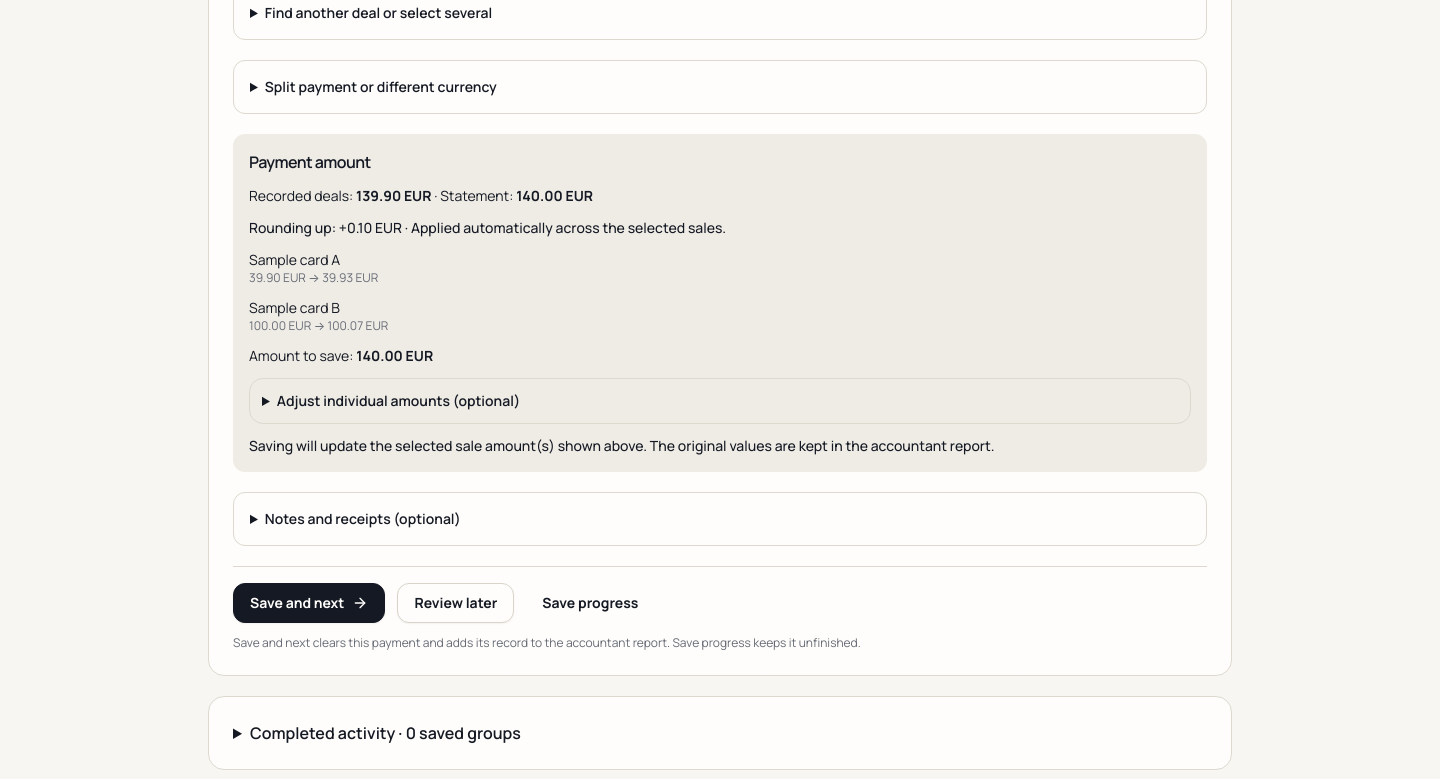
it: guided payment review › clears a combined sale with implied rounding, including an old unfinished draft
This screenshot has width=1440, height=779.
(page scrolled)
Check: the element named "Payment amount" shows "Rounding up: +0.10 EUR", box [233,134,1207,472]
Click the button "Save and next": click(309, 603) [233,583,385,623]
(page scrolled)
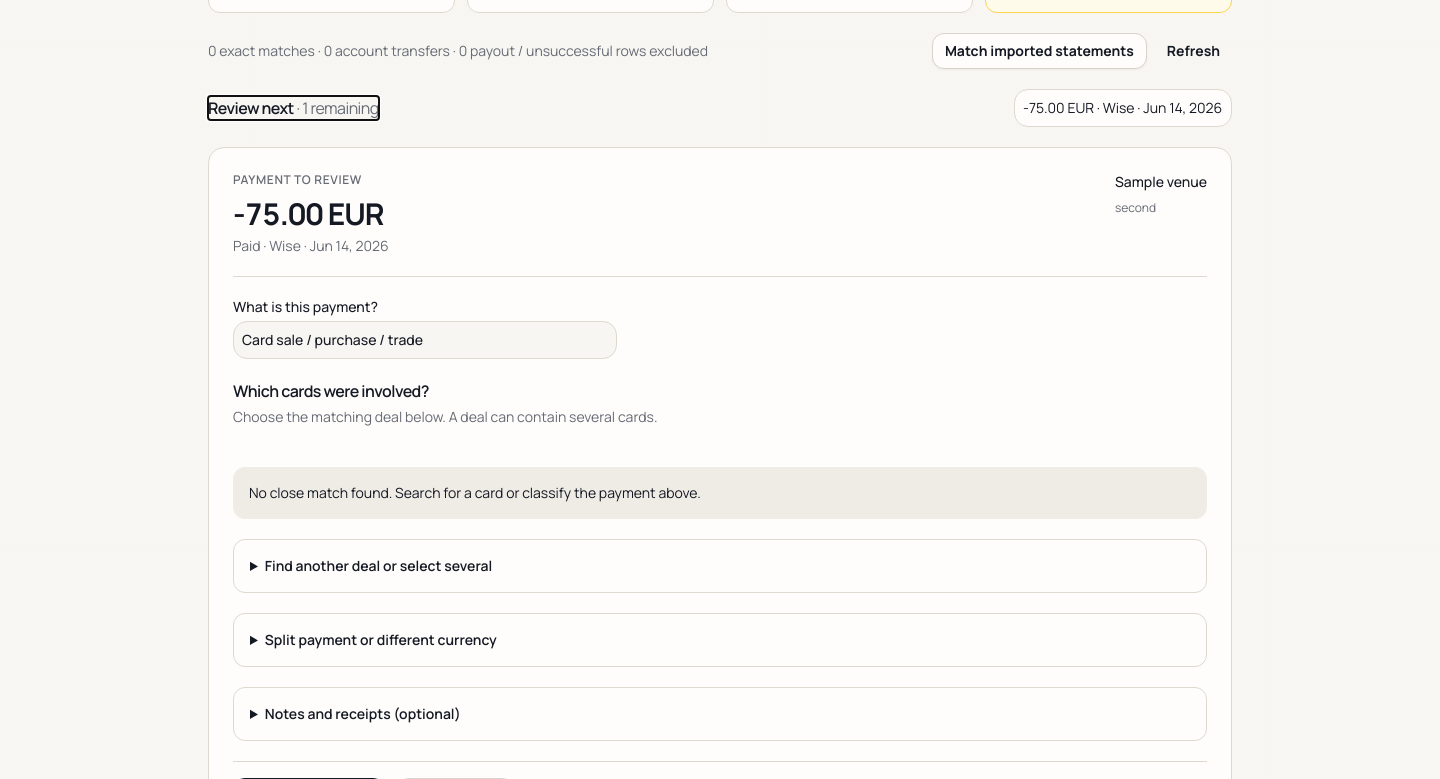
Check: the dropdown named "Choose payment to review" shows "-75.00 EUR · Wise · Jun 14, 2026", box [1014,89,1232,127]
